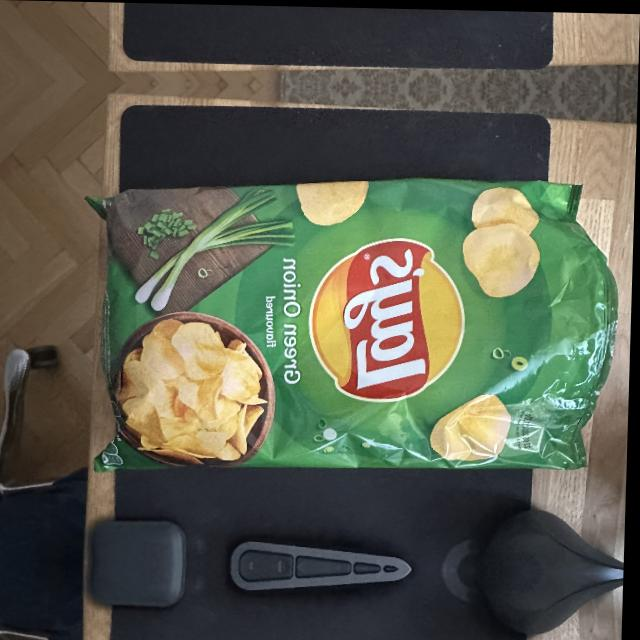lays: (312, 236, 469, 402)
